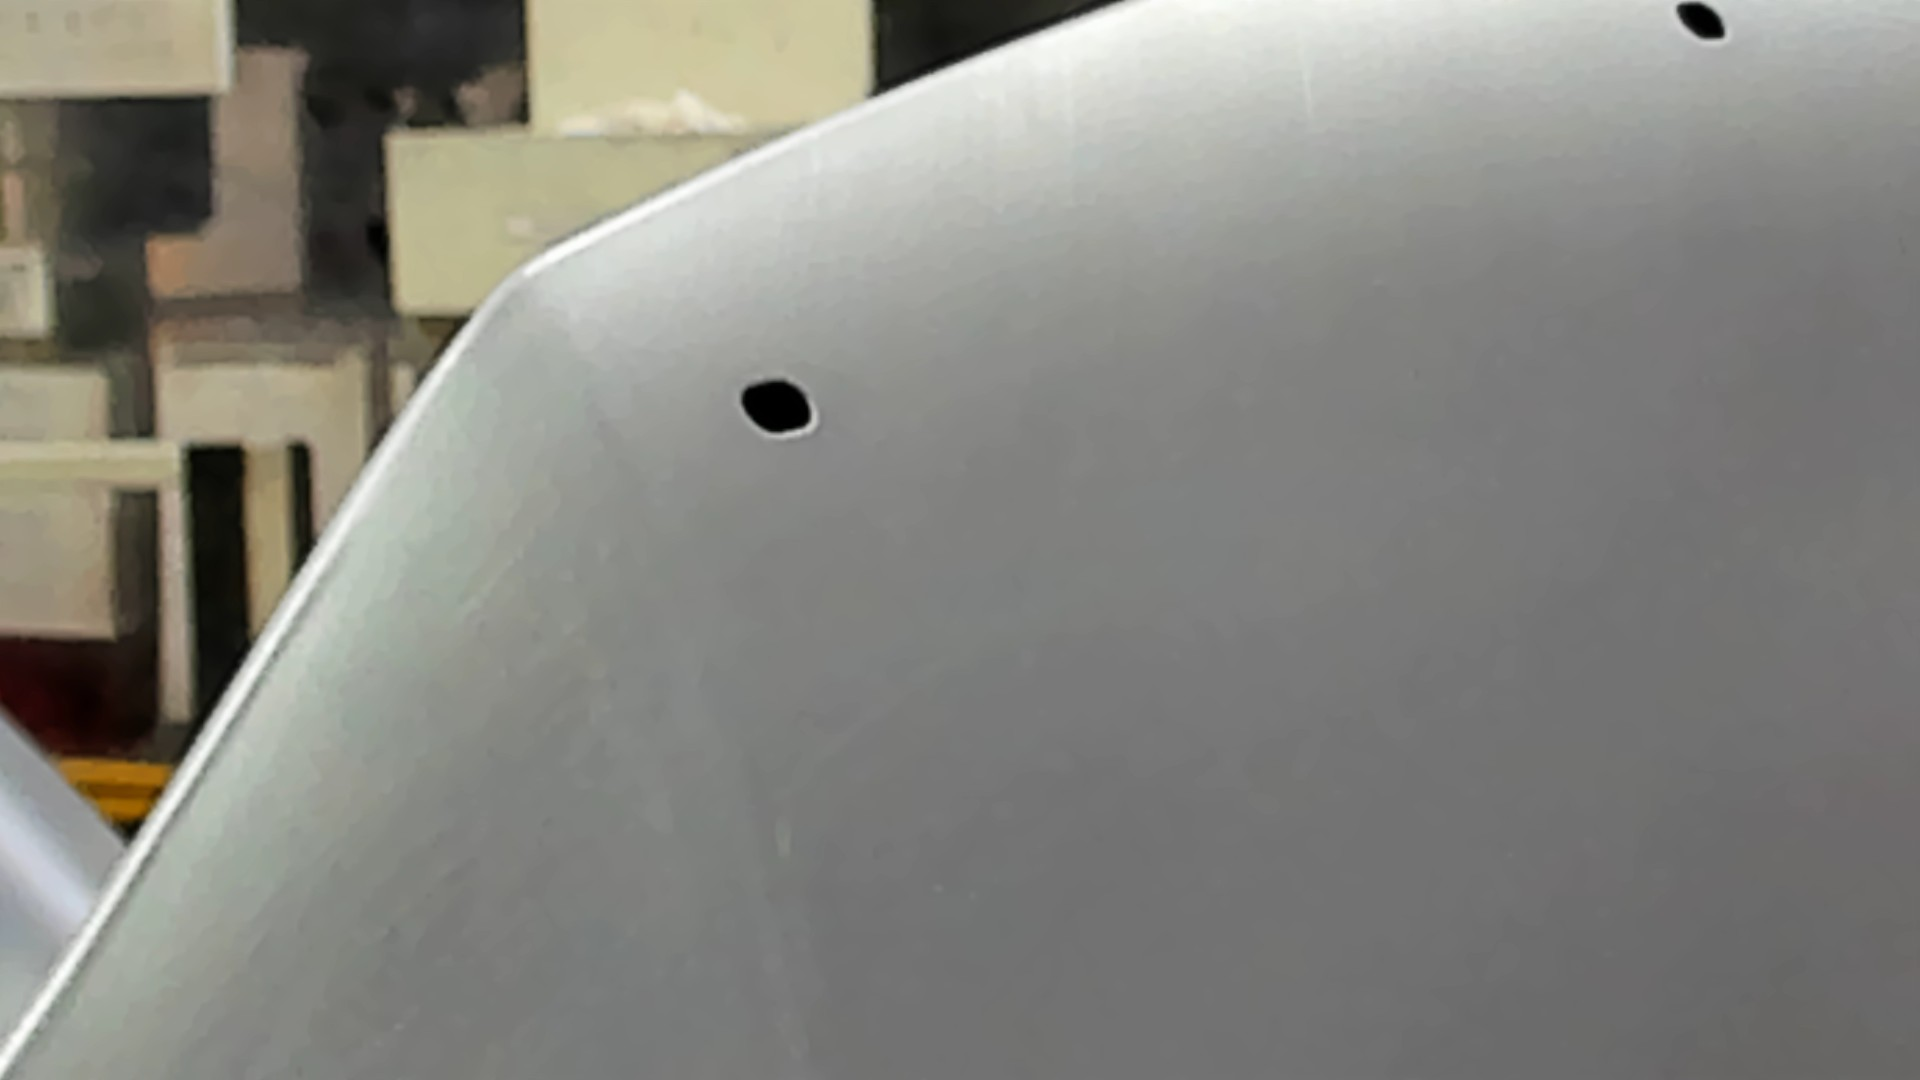amorfo: (737, 371, 823, 442), (1673, 1, 1734, 50)
